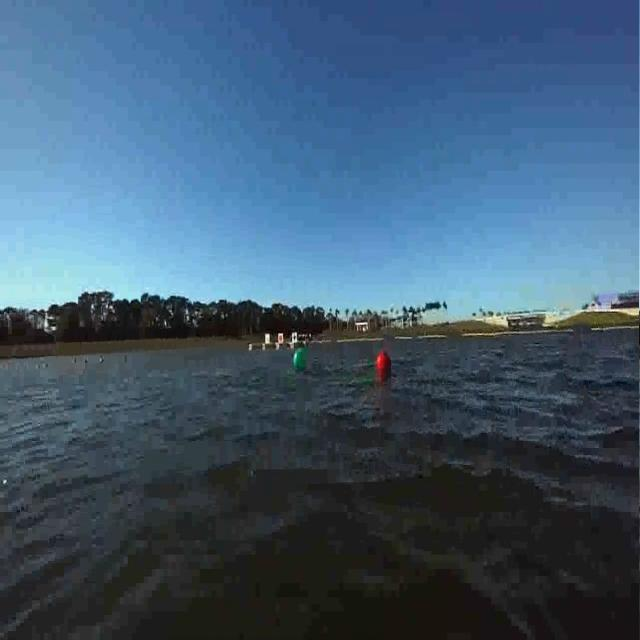green-buoy: (292, 347, 310, 371)
red-buoy: (378, 352, 390, 370)
